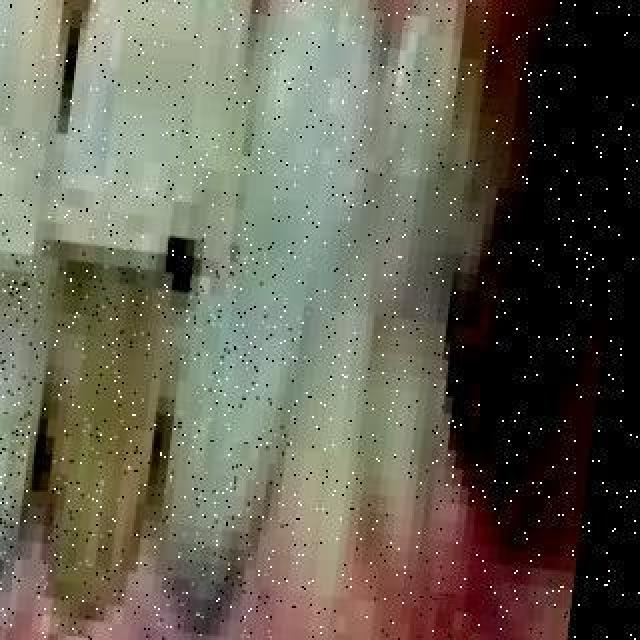calculus: (140, 424, 318, 640), (0, 354, 52, 640)
cavities: (26, 240, 164, 640)
spacing: (34, 0, 118, 178)
